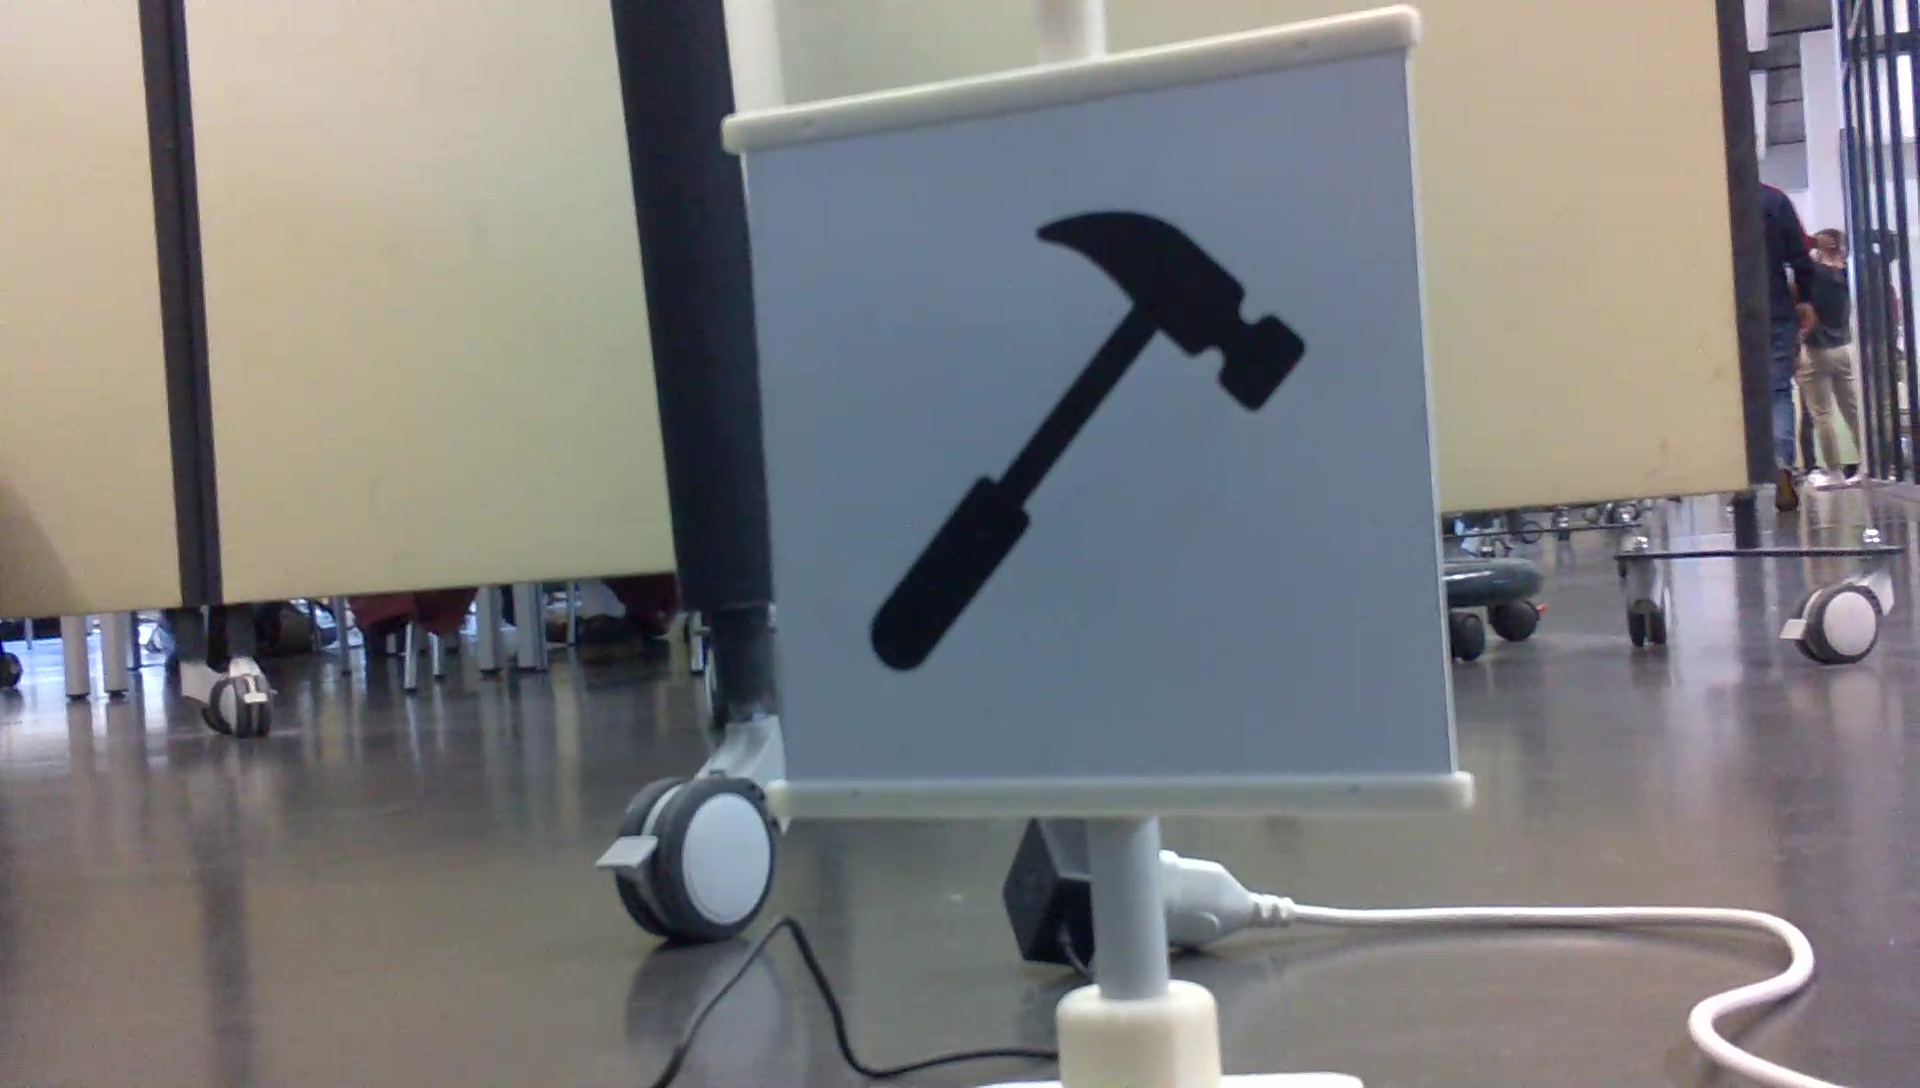hammer: (856, 200, 1311, 680)
